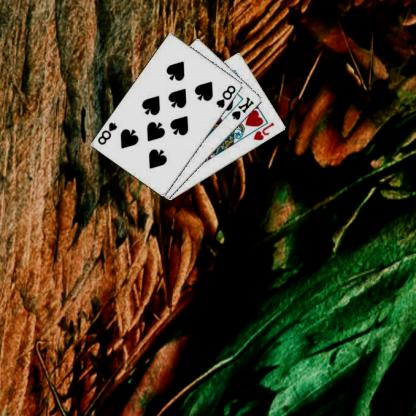8S: (216, 83, 240, 109), (97, 120, 120, 146)
JH: (253, 119, 277, 142)
KS: (231, 94, 257, 121)
